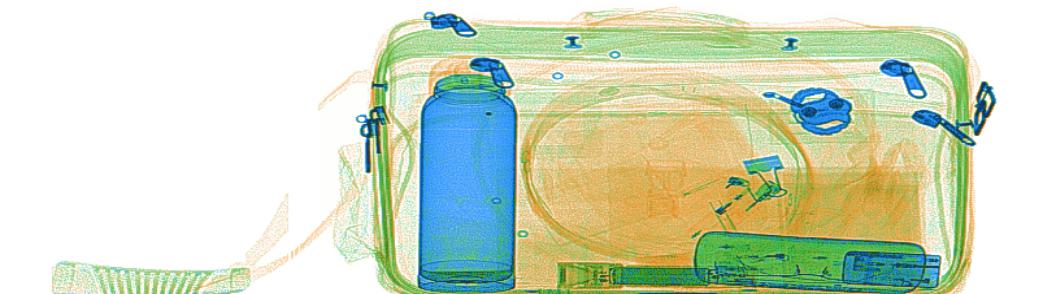battery: (606, 264, 711, 288)
lighter: (682, 175, 783, 252), (841, 249, 940, 288)
